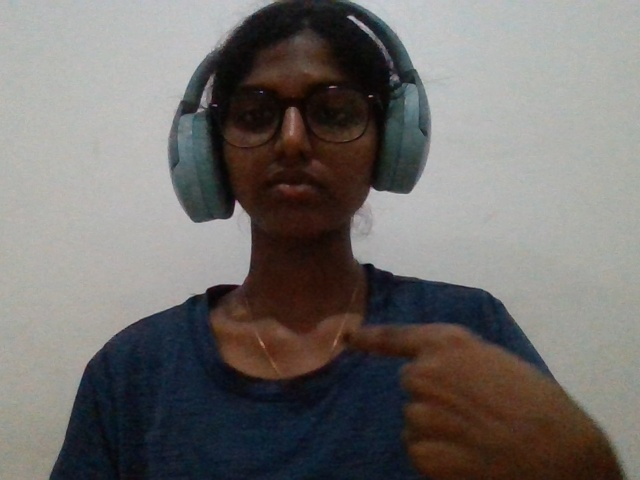Me: (312, 292, 640, 476)
